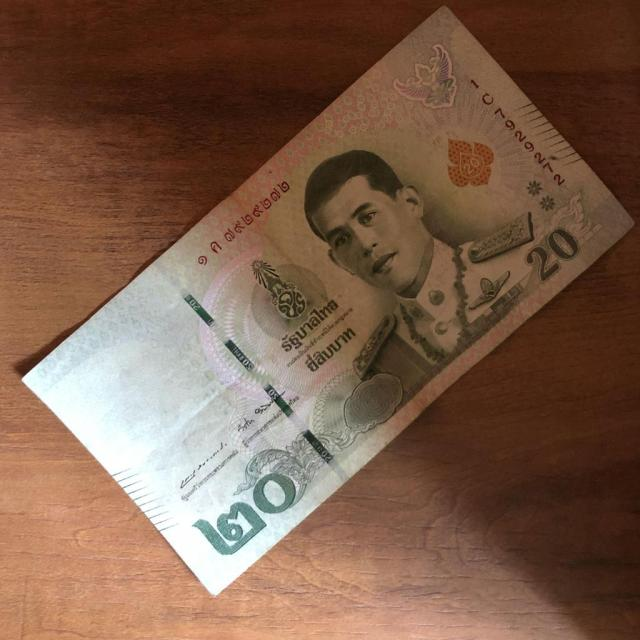THAI20: (22, 9, 632, 594)
